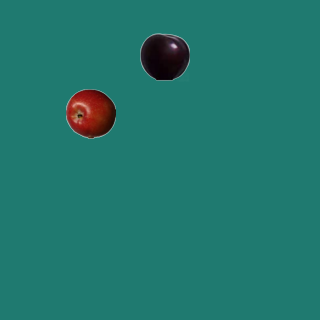Apple Braeburn: (65, 88, 115, 138)
Cherry Wax Black: (139, 31, 189, 81)
